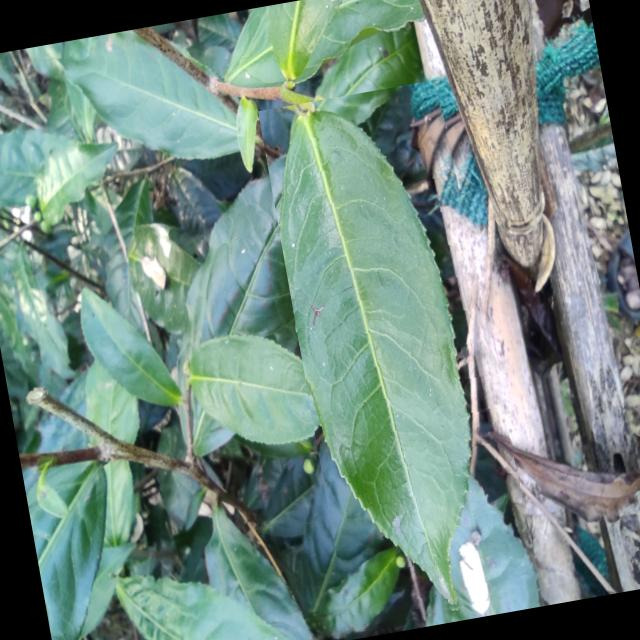Category D(7+ days, Not for Tea): (258, 76, 542, 632)
